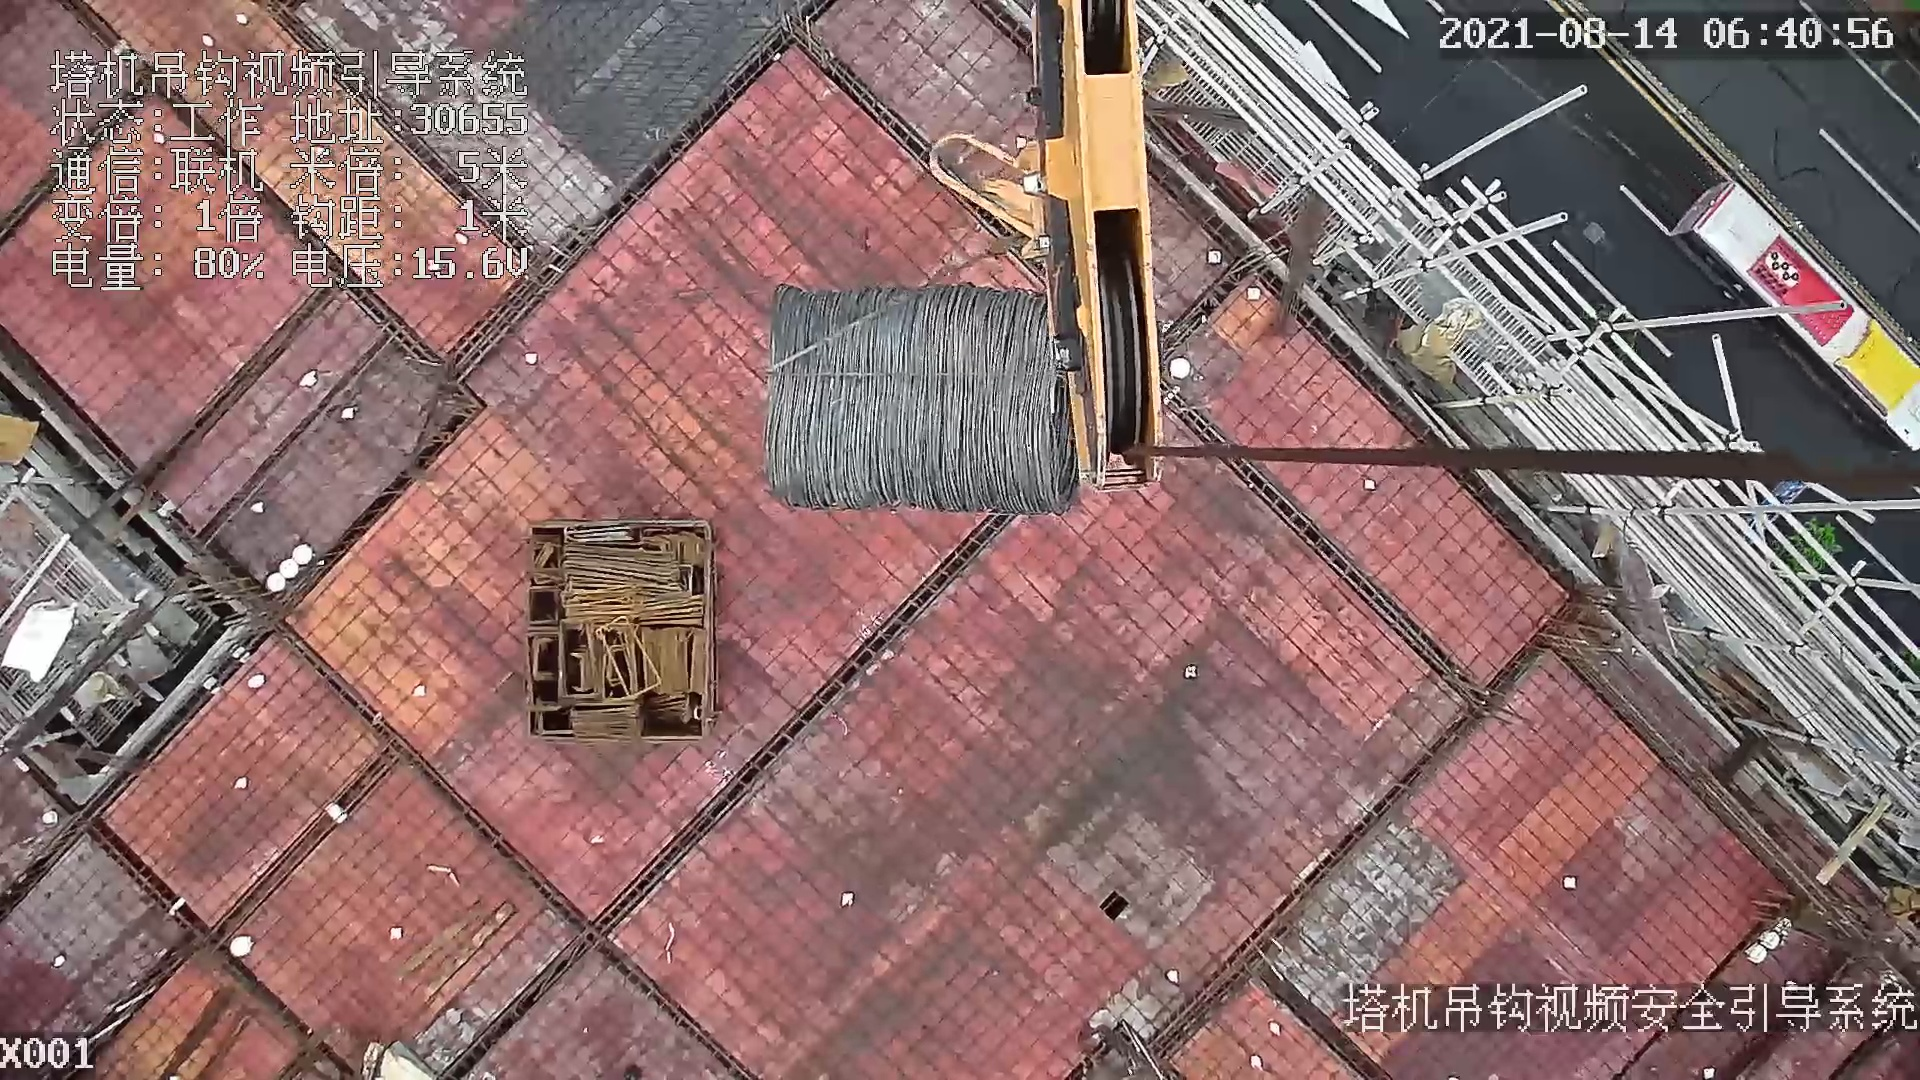hook: (936, 1, 1167, 489)
